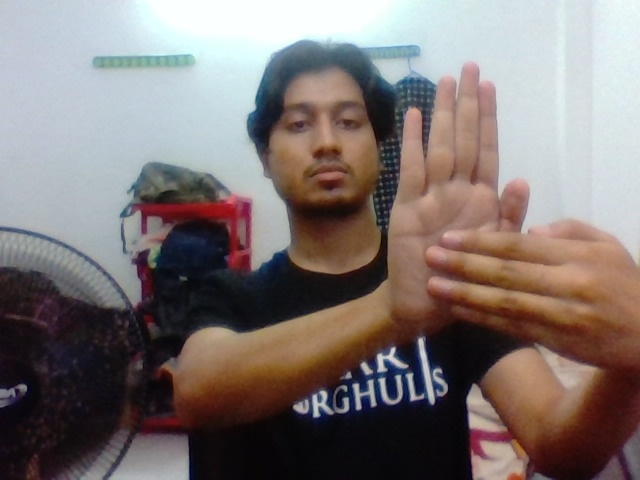H: (375, 54, 618, 364)
